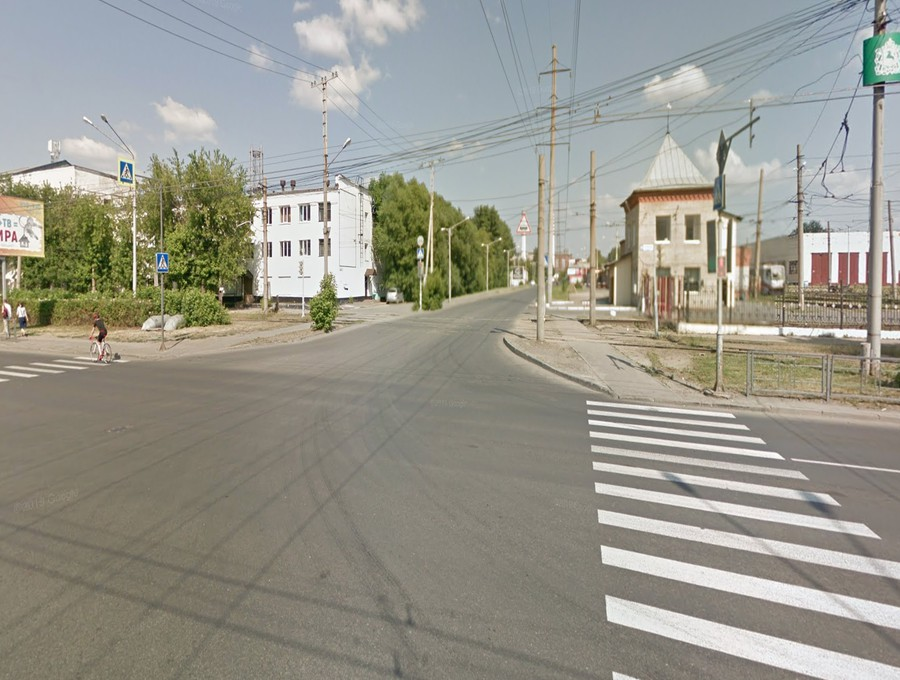Traffic Light-red: (714, 255, 731, 281)
